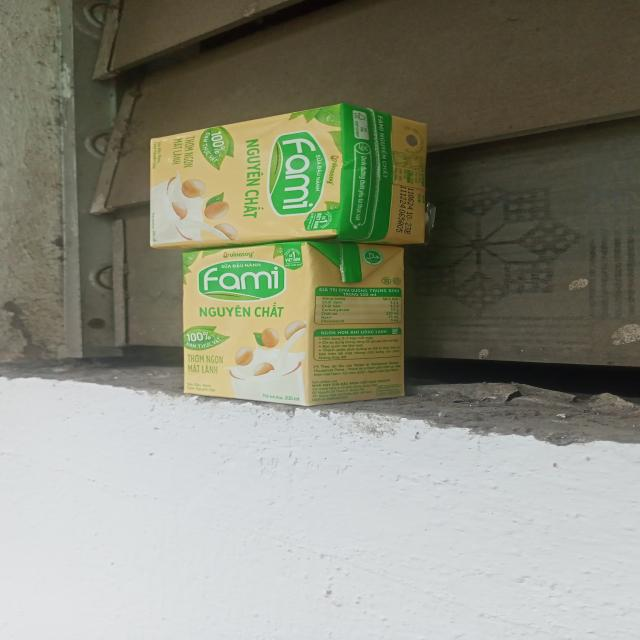Fami: (150, 104, 433, 249), (183, 242, 408, 409)
